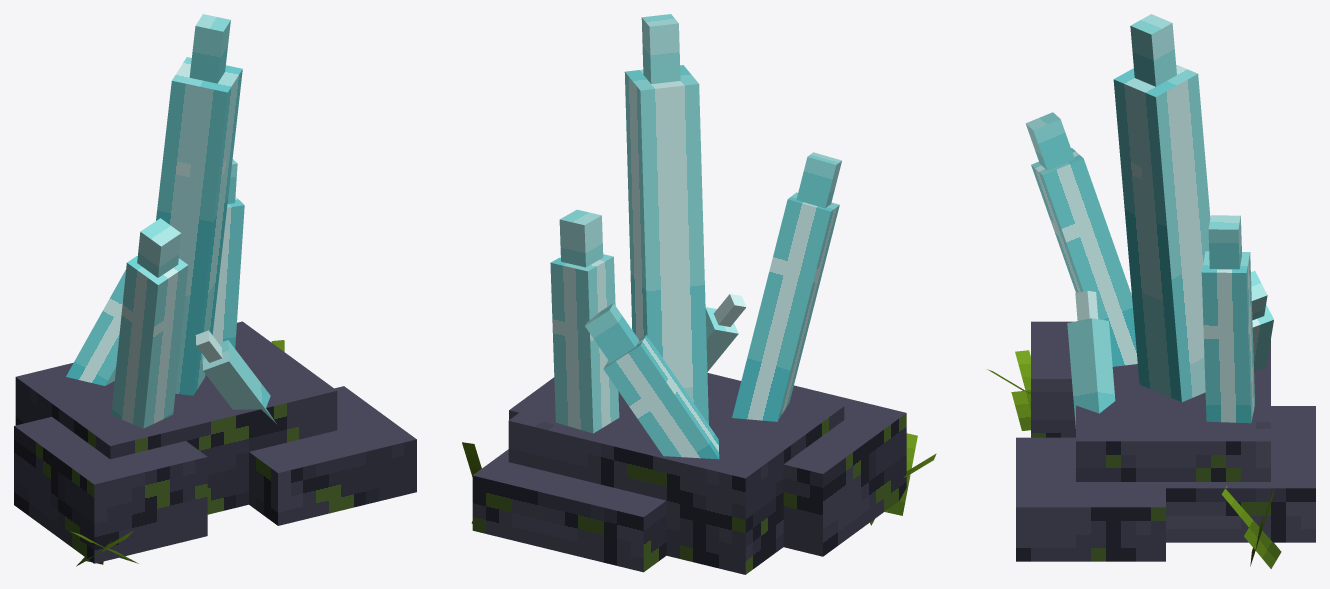
The model's file is crystal_cluster_small.glb.
The picture shows the model from 3 angles, left to right: view 1: azimuth 30°, elevation 25°; view 2: azimuth 150°, elevation 25°; view 3: azimuth 270°, elevation 25°; orthographic projection. The views are drawn at different scales.
Parts seen in each view (by area): view 1: rock, crystal_1_glow, crystal_2_glow, crystal_4_glow, crystal_3_glow, crystal_5_glow, crystal_1_tip_glow, crystal_2_tip_glow, crystal_5_tip_glow; view 2: rock, crystal_1_glow, crystal_2_glow, crystal_3_glow, crystal_4_glow, crystal_1_tip_glow, crystal_3_tip_glow, crystal_4_tip_glow, crystal_2_tip_glow, crystal_5_glow, crystal_5_tip_glow, tuft_blade_1; view 3: rock, crystal_1_glow, crystal_2_glow, crystal_3_glow, crystal_5_glow, crystal_1_tip_glow, crystal_2_tip_glow, crystal_3_tip_glow, tuft_blade_4, tuft_blade_3, crystal_4_glow, crystal_5_tip_glow (+1 smaller).
Boxes of the visible parts, box(x1,y1,x2,y2) form: rock: box(14, 321, 416, 563); crystal_1_glow: box(156, 57, 242, 395); crystal_2_glow: box(111, 255, 188, 428); crystal_4_glow: box(66, 270, 125, 385); crystal_3_glow: box(212, 196, 244, 348); crystal_5_glow: box(202, 340, 276, 423); crystal_1_tip_glow: box(189, 14, 230, 83); crystal_2_tip_glow: box(137, 218, 181, 277); crystal_5_tip_glow: box(195, 330, 222, 362); rock: box(472, 373, 906, 574); crystal_1_glow: box(624, 65, 708, 424); crystal_2_glow: box(732, 192, 839, 421); crystal_3_glow: box(550, 254, 619, 433); crystal_4_glow: box(603, 335, 719, 459); crystal_1_tip_glow: box(641, 14, 680, 83); crystal_3_tip_glow: box(559, 209, 603, 267); crystal_4_tip_glow: box(585, 303, 639, 363); crystal_2_tip_glow: box(796, 152, 841, 208); crystal_5_glow: box(705, 307, 738, 371); crystal_5_tip_glow: box(713, 294, 746, 326); tuft_blade_1: box(884, 433, 917, 515); rock: box(1016, 321, 1315, 561); crystal_1_glow: box(1113, 64, 1210, 402); crystal_2_glow: box(1031, 148, 1137, 366); crystal_3_glow: box(1201, 251, 1254, 423); crystal_5_glow: box(1067, 318, 1115, 428); crystal_1_tip_glow: box(1130, 14, 1176, 86); crystal_2_tip_glow: box(1025, 112, 1074, 170); crystal_3_tip_glow: box(1208, 215, 1241, 269); tuft_blade_4: box(1221, 486, 1281, 568); tuft_blade_3: box(1011, 350, 1030, 430); crystal_4_glow: box(1252, 304, 1273, 370); crystal_5_tip_glow: box(1075, 290, 1098, 320).
Bounding box in the file's own units: 0.8709 × 1.12 × 0.725.
1 material, 1 textured.
